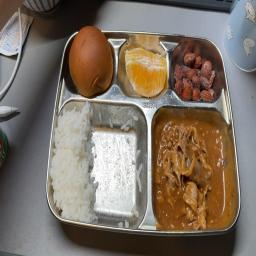100_bread: (64, 24, 113, 96)
100_nuts: (171, 41, 217, 105)
100_orange: (116, 35, 169, 101)
100_rice: (47, 99, 141, 226)
75_beef: (153, 111, 231, 230)
